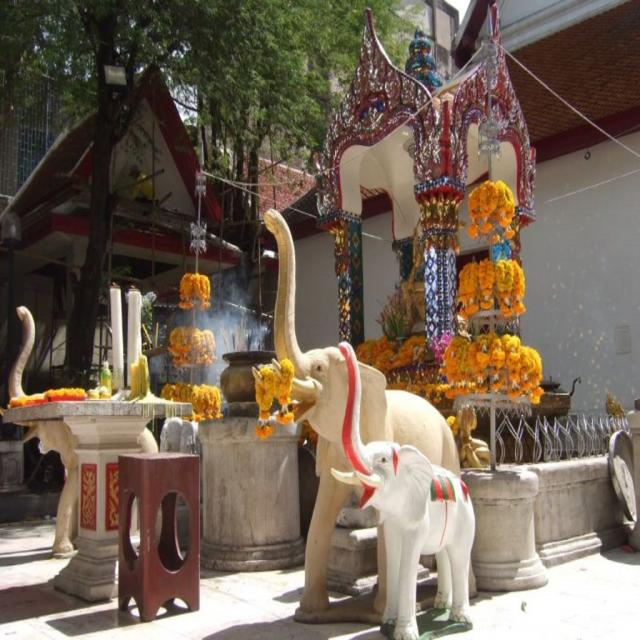elephant: (341, 341, 475, 638), (10, 306, 158, 553)
